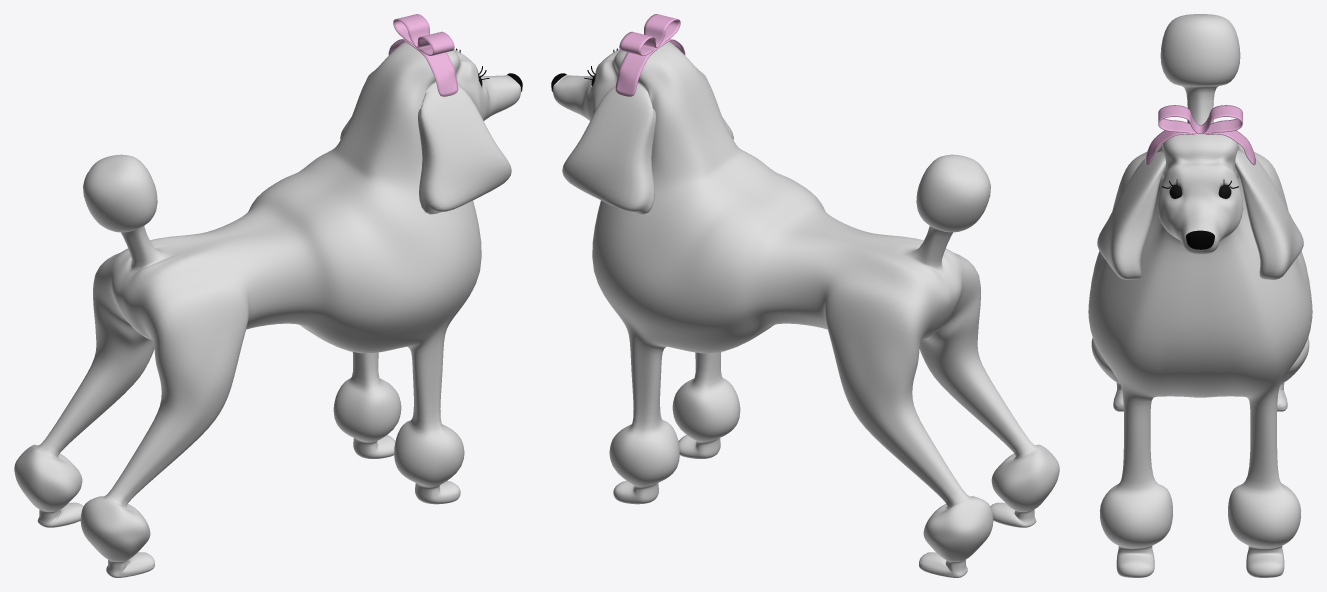
Rendered from Poodle.fbx.
The picture shows the model from 3 angles, left to right: view 1: azimuth 30°, elevation 25°; view 2: azimuth 150°, elevation 25°; view 3: azimuth 270°, elevation 25°; orthographic projection. The views are drawn at different scales.
Visible parts, largest first — view 1: body, ribbon; view 2: body, ribbon; view 3: body, ribbon, Eyes.
Part boxes in pixels (bbox=[...]): body: bbox=[14, 41, 522, 577]; ribbon: bbox=[388, 14, 458, 96]; body: bbox=[551, 41, 1059, 577]; ribbon: bbox=[615, 14, 685, 96]; body: bbox=[1088, 14, 1312, 577]; ribbon: bbox=[1145, 105, 1255, 165]; Eyes: bbox=[1169, 184, 1231, 198].
Bounding box in the file's own units: 780 × 714 × 309.
